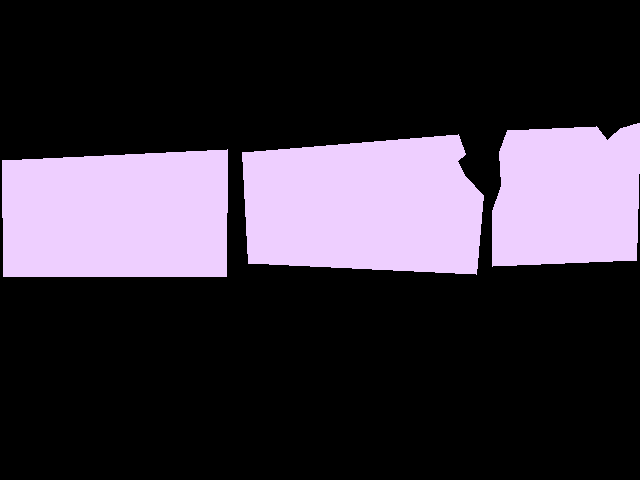Train: (2, 122, 640, 276)
